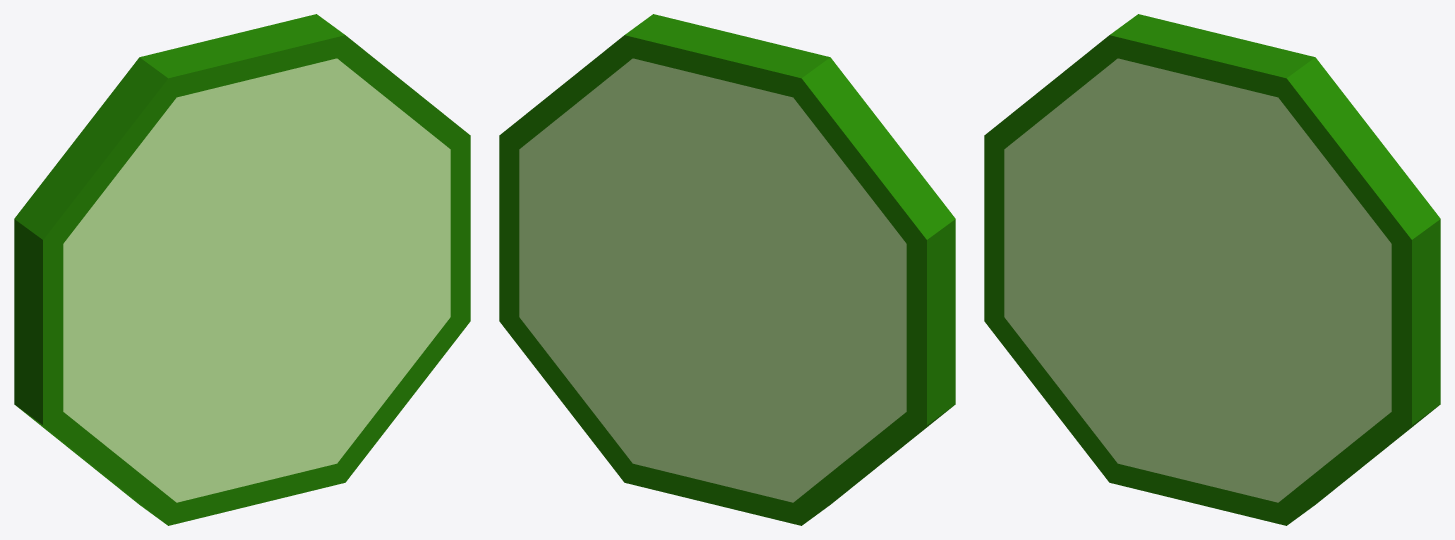
Rendered from cucumber03.gltf.
3 views of the same model, side by side, from view 1: azimuth 30°, elevation 25°; view 2: azimuth 150°, elevation 25°; view 3: azimuth 330°, elevation 25° (orthographic).
Parts seen in each view (by area): view 1: Cylinder; view 2: Cylinder; view 3: Cylinder.
Boxes of the visible parts, <box> form: Cylinder: <box>14,14,470,525</box>; Cylinder: <box>499,14,955,525</box>; Cylinder: <box>984,14,1440,525</box>.
Size of the model in its own units: 0.0498 by 0.0498 by 0.00583.
1 material, 1 textured.
